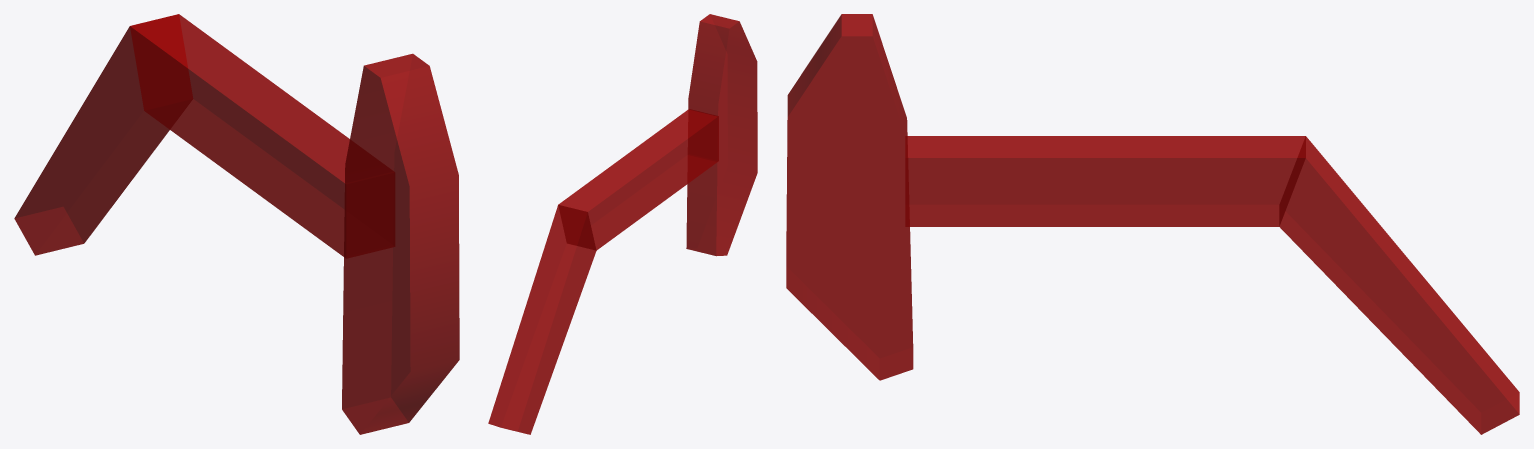
Rendered from SM_Prop_Pipline_OilPump_Arm_01_Collision.fbx.
3 renders of one model, left to right at view 1: azimuth 30°, elevation 25°; view 2: azimuth 150°, elevation 25°; view 3: azimuth 270°, elevation 25°, orthographic. The views are drawn at different scales.
Parts seen in each view (by area): view 1: SM_Prop_Pipline_OilPump_Arm_01_Collision; view 2: SM_Prop_Pipline_OilPump_Arm_01_Collision; view 3: SM_Prop_Pipline_OilPump_Arm_01_Collision.
Boxes of the visible parts, x1,y1,x2,y2 form: SM_Prop_Pipline_OilPump_Arm_01_Collision: [14, 14, 459, 434]; SM_Prop_Pipline_OilPump_Arm_01_Collision: [488, 14, 757, 434]; SM_Prop_Pipline_OilPump_Arm_01_Collision: [786, 14, 1519, 434].
Bounding box in the file's own units: 46.62 × 390 × 651.
